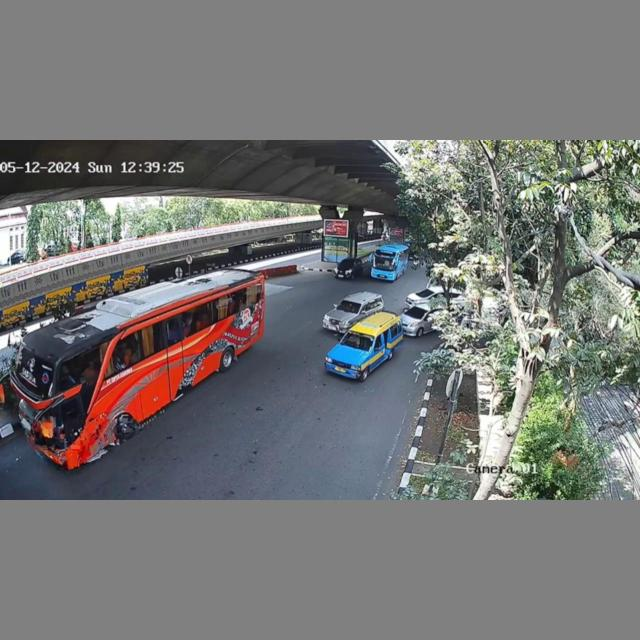windshield: (338, 331, 374, 353), (335, 298, 360, 316)
